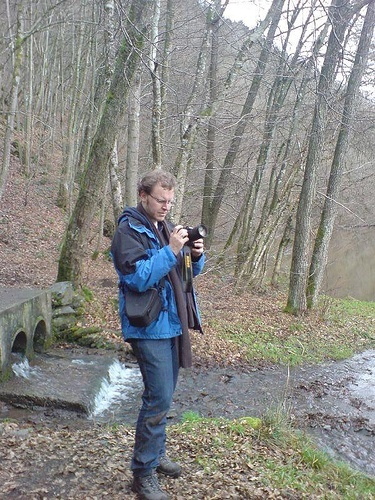head: (137, 169, 177, 222)
person: (112, 162, 207, 500)
